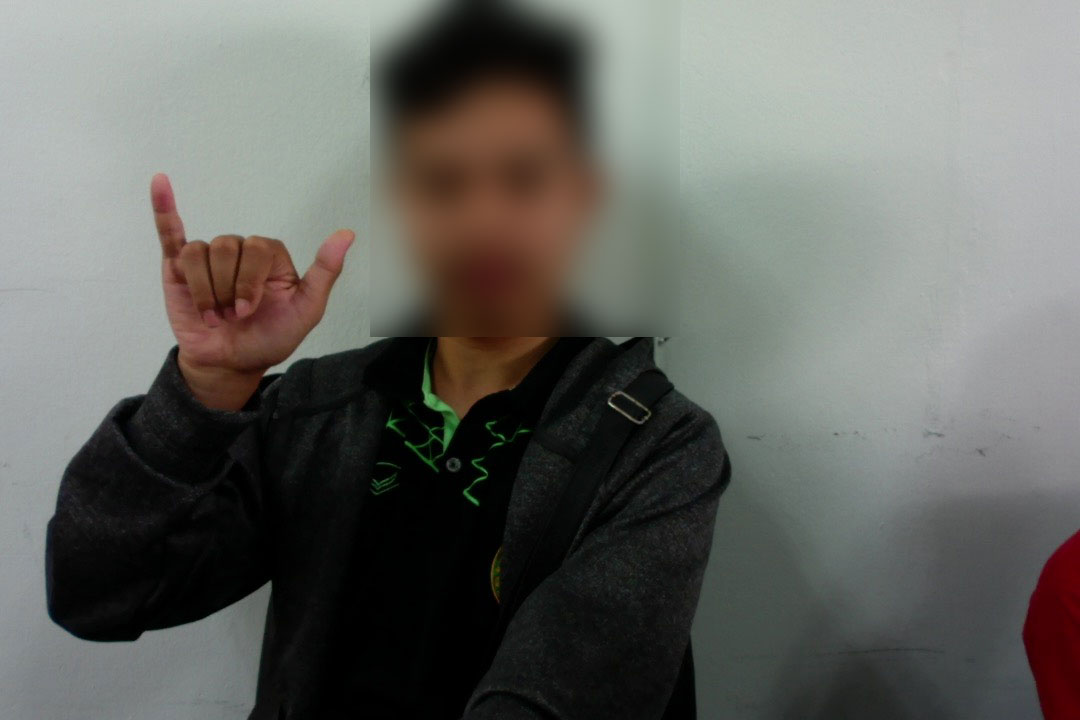yor: (141, 164, 360, 390)
